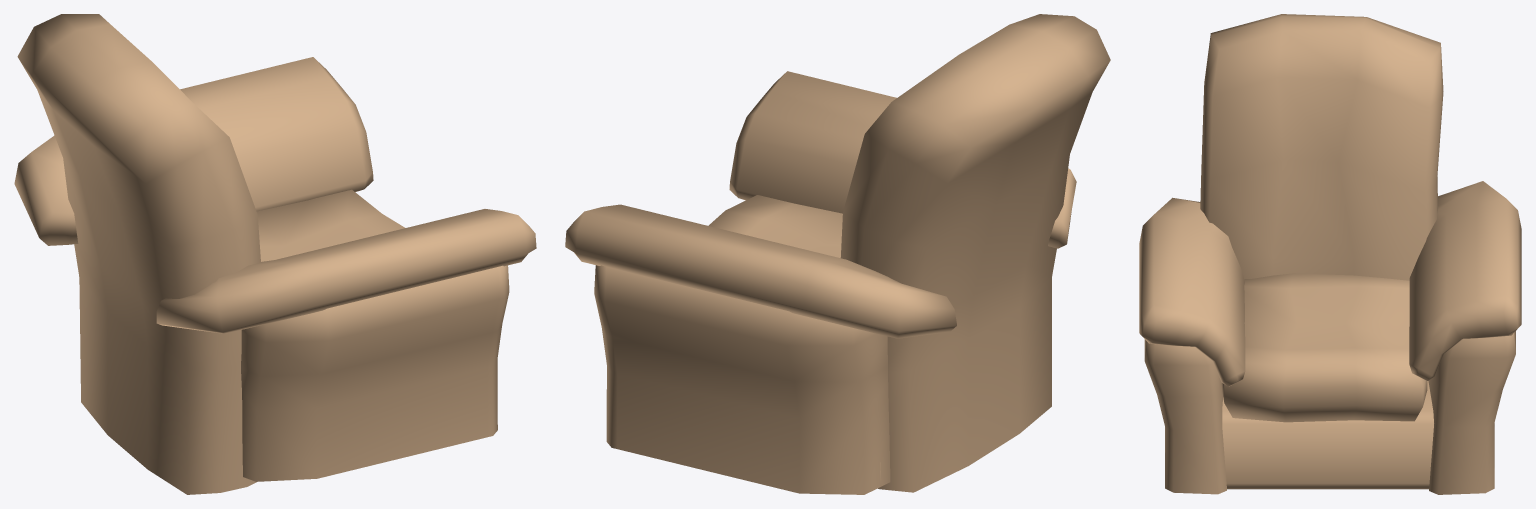
File: SofaChair_M.fbx
The picture shows the model from 3 angles, left to right: view 1: azimuth 30°, elevation 25°; view 2: azimuth 150°, elevation 25°; view 3: azimuth 270°, elevation 25°; orthographic projection. The views are drawn at different scales.
Visible parts, largest first — view 1: SofaChair_M; view 2: SofaChair_M; view 3: SofaChair_M.
Part boxes in pixels (box(x1,y1,x2,y2)): SofaChair_M: box(14, 14, 536, 494); SofaChair_M: box(565, 14, 1110, 494); SofaChair_M: box(1139, 14, 1521, 494).
Bounding box in the file's own units: 174 × 176 × 173.
